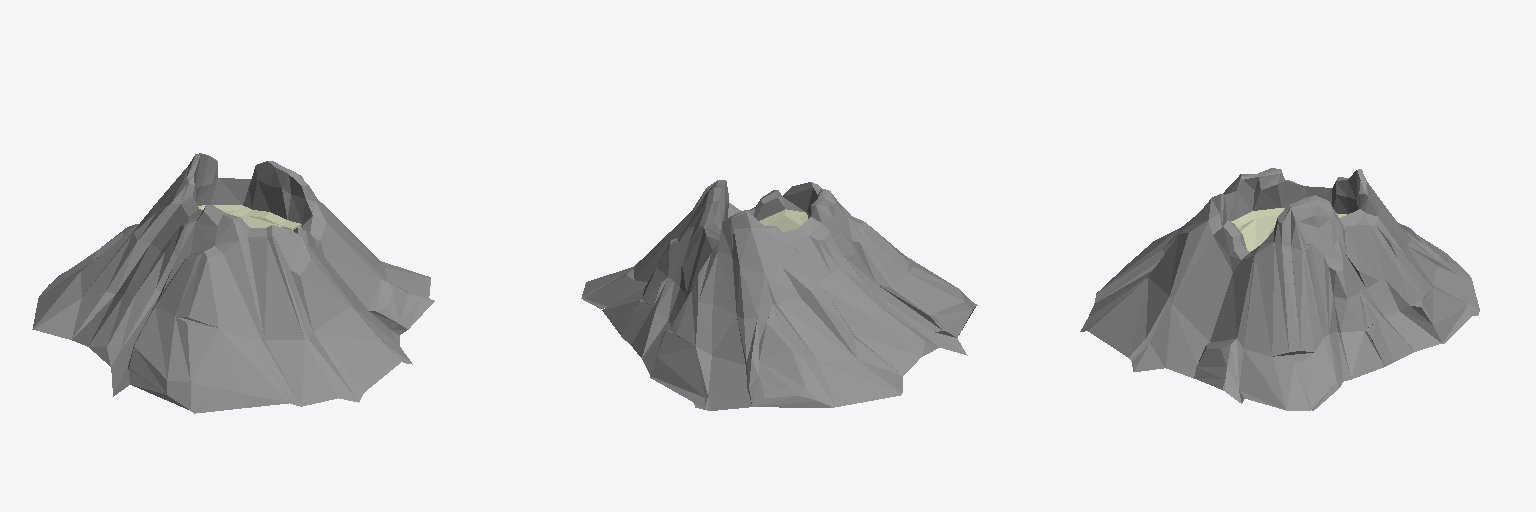
The model's file is Small_Volcano.obj.
The picture shows the model from 3 angles: view 1: azimuth 30°, elevation 25°; view 2: azimuth 150°, elevation 25°; view 3: azimuth 270°, elevation 25°; orthographic projection.
Parts seen in each view (by area): view 1: Small_Volcano; view 2: Small_Volcano; view 3: Small_Volcano.
Part boxes in pixels (x1,y1,x2,y2): Small_Volcano: (32, 153, 434, 413); Small_Volcano: (581, 180, 977, 410); Small_Volcano: (1080, 168, 1479, 410).
Size of the model in its own units: 420 by 176 by 407.